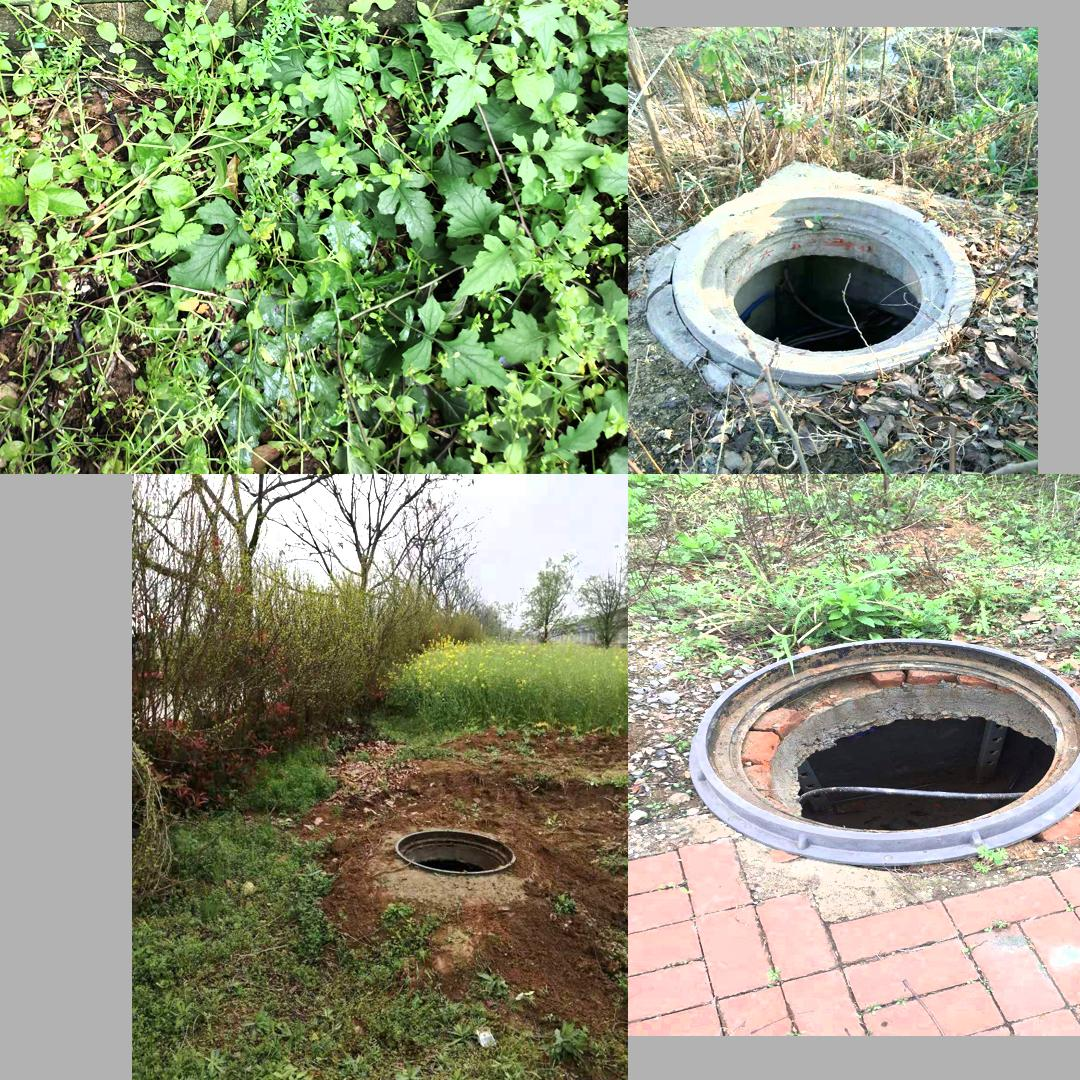lose: (685, 638, 1080, 868), (671, 187, 975, 388), (379, 821, 512, 879), (0, 0, 552, 2)
